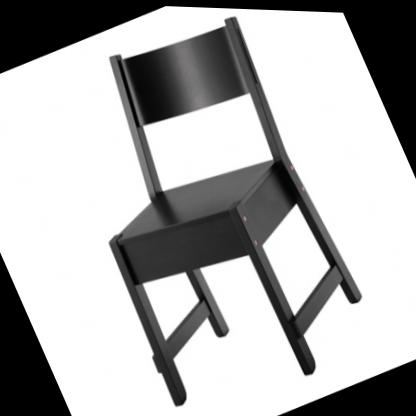Chair: (29, 1, 386, 416)
